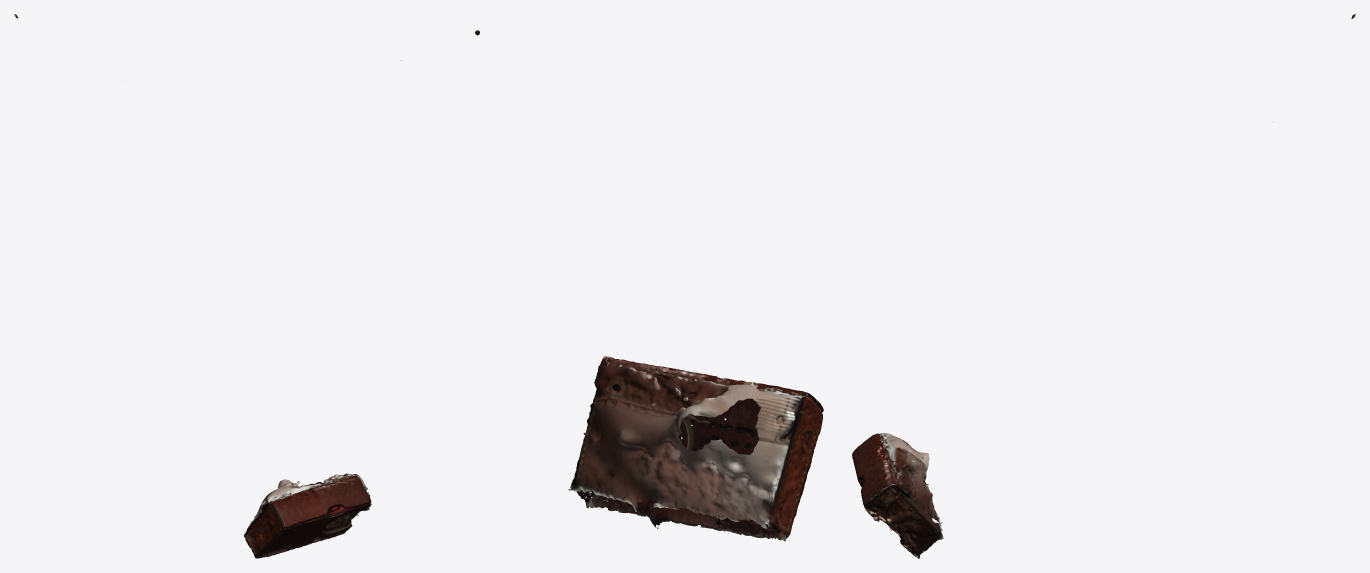
The model's file is wallet_4c05fcdcb805.glb.
3 views of the same model, side by side, from view 1: azimuth 30°, elevation 25°; view 2: azimuth 150°, elevation 25°; view 3: azimuth 270°, elevation 25° (orthographic). The views are drawn at different scales.
Parts seen in each view (by area): view 1: Object_2, Object_3; view 2: Object_2, Object_3; view 3: Object_2, Object_3.
Part boxes in pixels (x1,y1,x2,y2): Object_2: (14,14,367,558); Object_3: (250,473,371,547); Object_2: (401,30,823,541); Object_3: (575,356,821,529); Object_2: (852,14,1355,557); Object_3: (853,439,940,558).
Bounding box in the file's own units: 2.57 × 7.01 × 6.78.
Materials: 1 (1 with a texture image).
